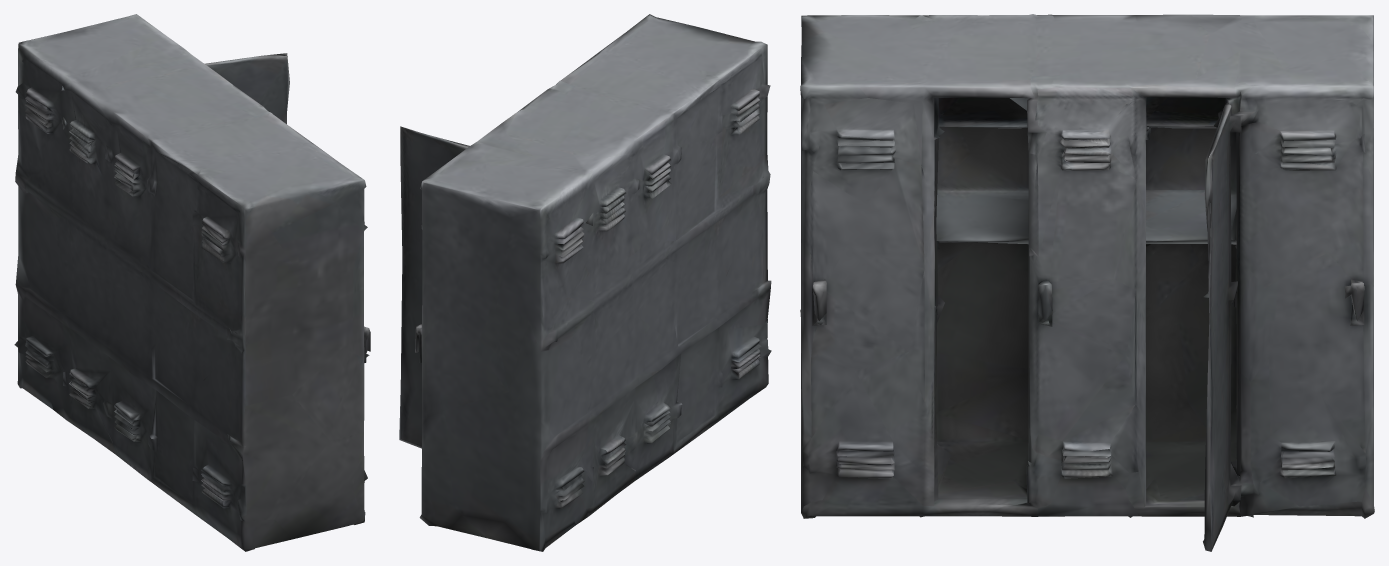
Rendered from xd_locker.glb.
3 renders of one model, left to right at view 1: azimuth 30°, elevation 25°; view 2: azimuth 150°, elevation 25°; view 3: azimuth 270°, elevation 25°, orthographic. The views are drawn at different scales.
Parts seen in each view (by area): view 1: tripo_node_62981595-6ffa-45d3-8867-577ac5df8ca4; view 2: tripo_node_62981595-6ffa-45d3-8867-577ac5df8ca4; view 3: tripo_node_62981595-6ffa-45d3-8867-577ac5df8ca4.
Boxes of the visible parts, x1,y1,x2,y2 form: tripo_node_62981595-6ffa-45d3-8867-577ac5df8ca4: [14, 14, 370, 551]; tripo_node_62981595-6ffa-45d3-8867-577ac5df8ca4: [399, 14, 771, 551]; tripo_node_62981595-6ffa-45d3-8867-577ac5df8ca4: [800, 14, 1374, 551].
Bounding box in the file's own units: 0.5423 × 0.8331 × 1.
Materials: 1 (1 with a texture image).
